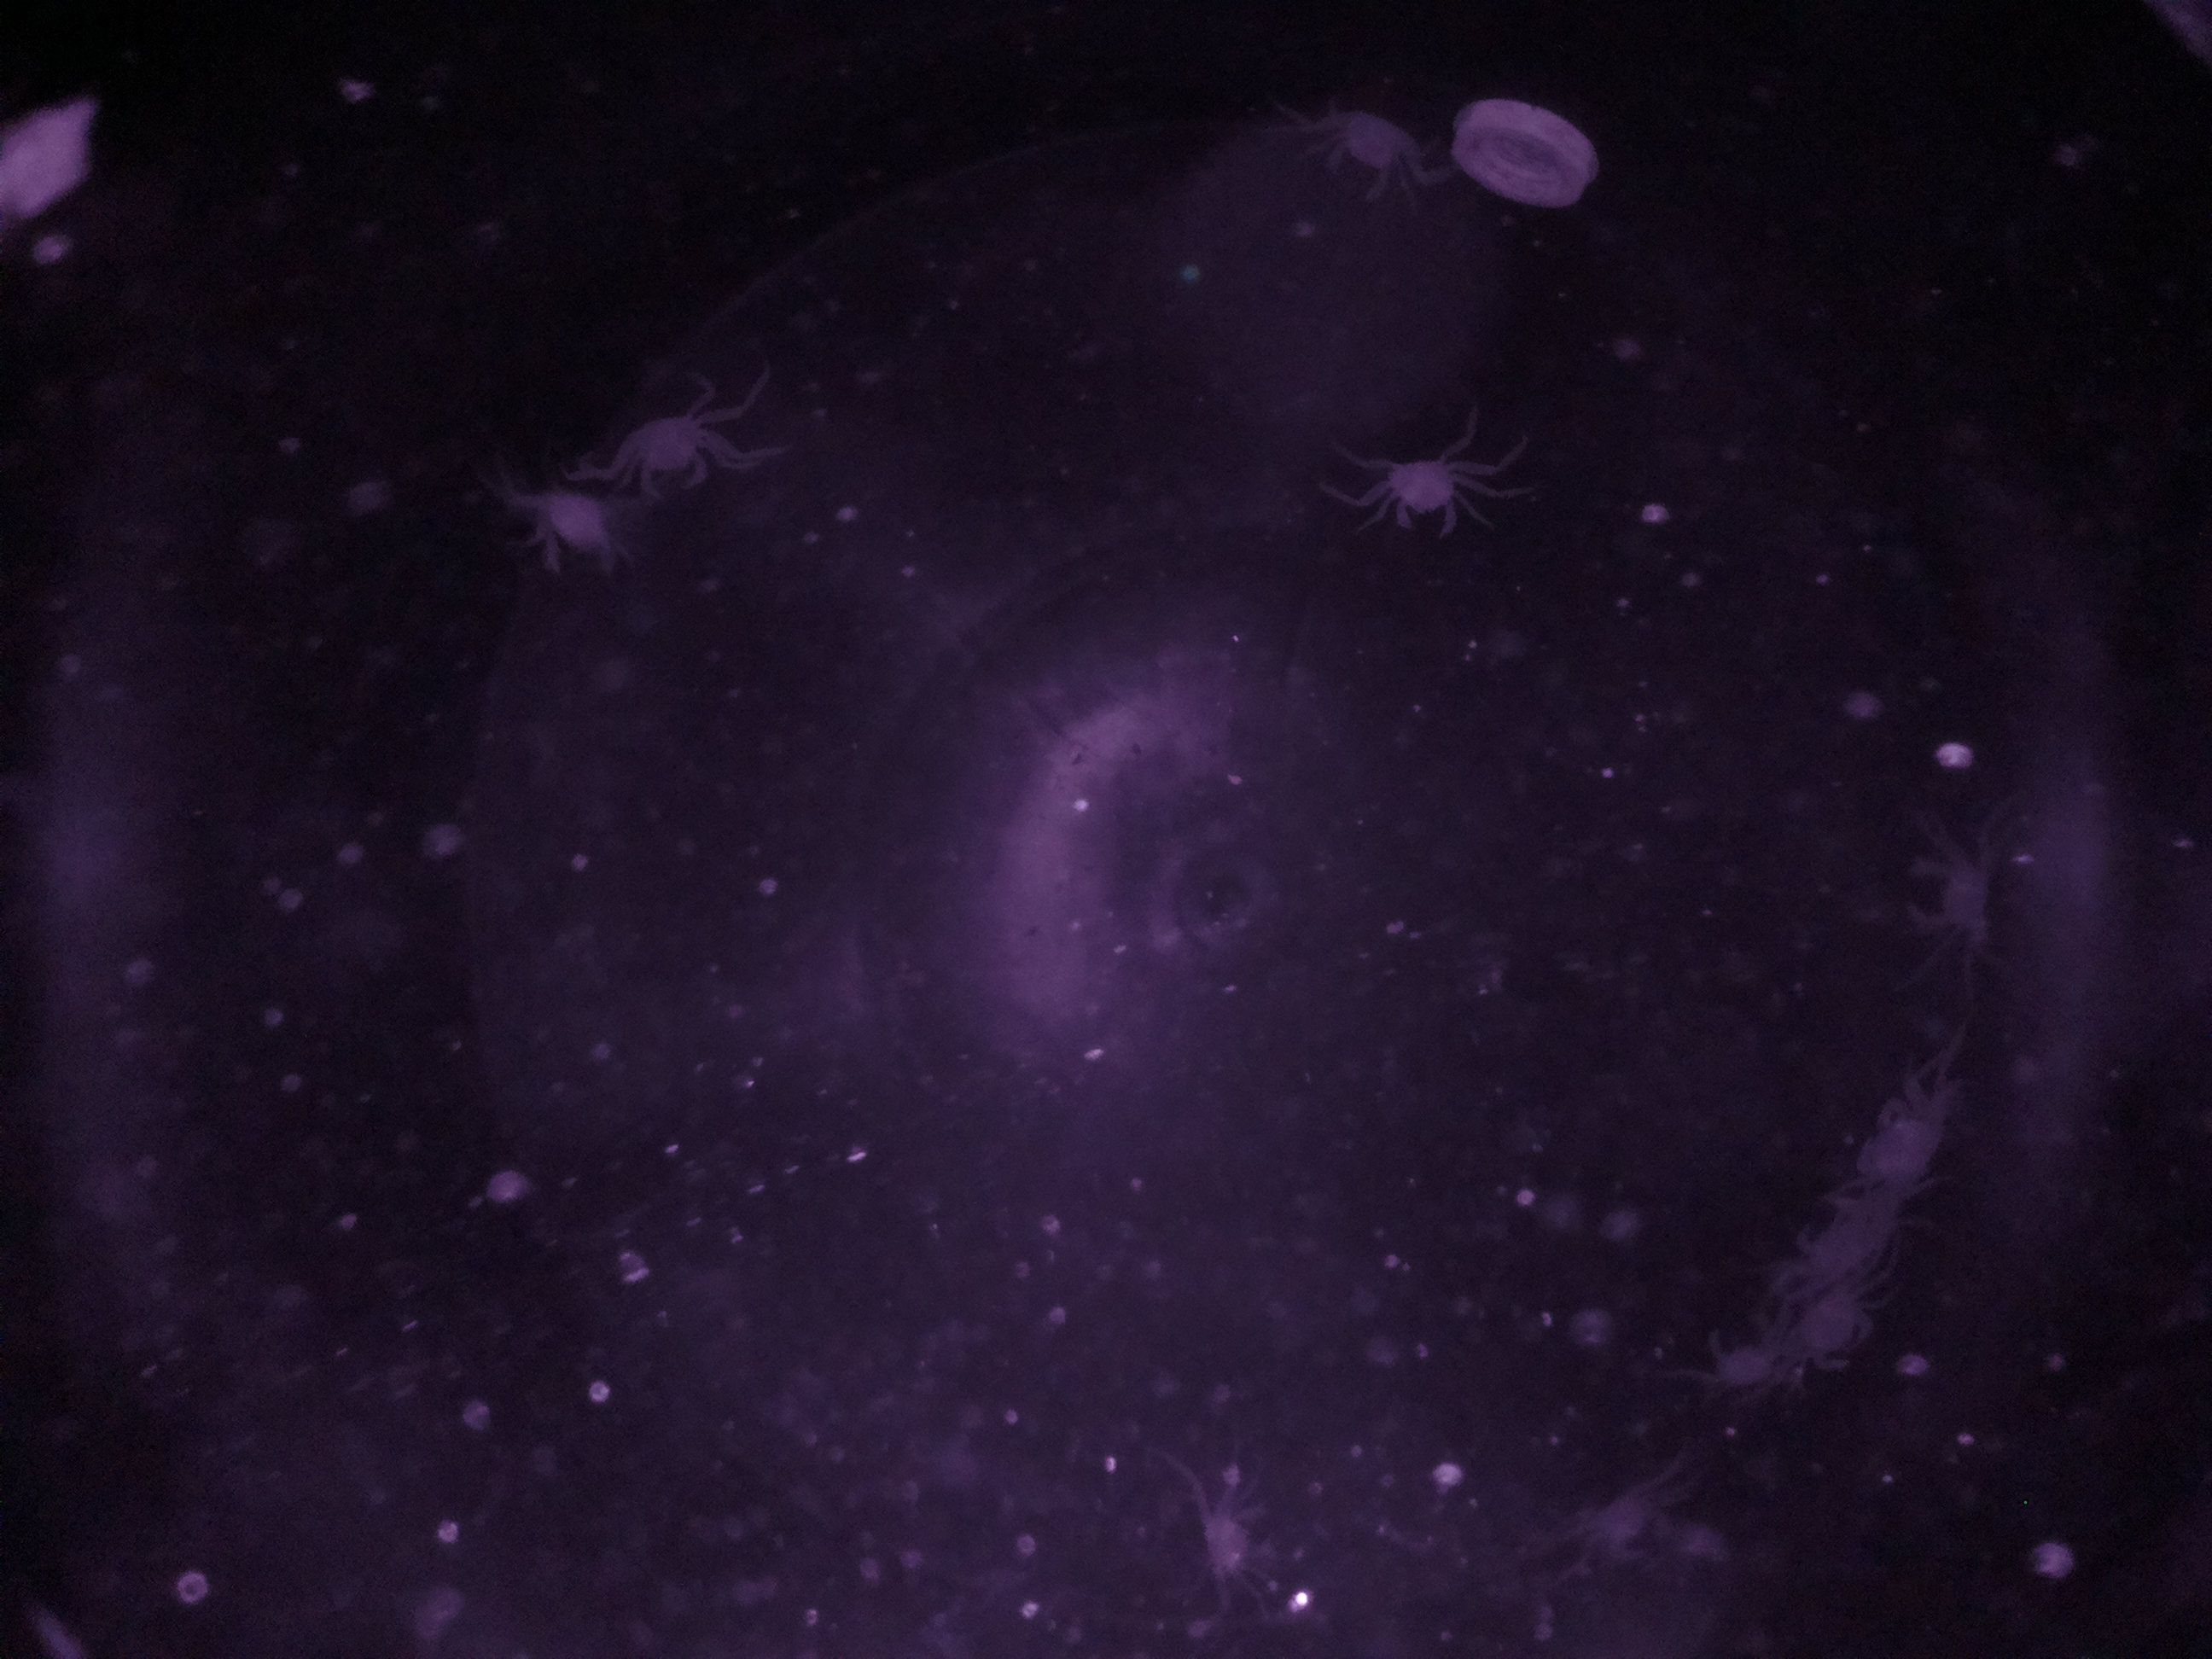Crab: (1881, 840, 2012, 948), (1374, 430, 1472, 556), (618, 394, 723, 507), (1188, 1488, 1291, 1593), (1329, 94, 1416, 216)
